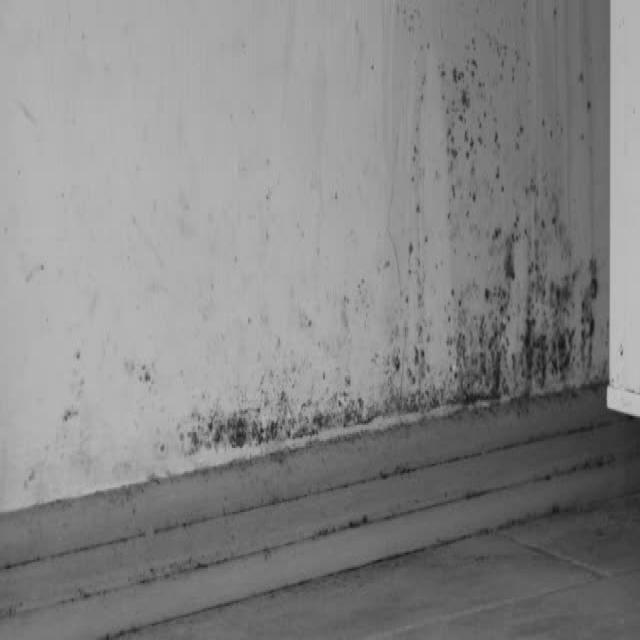stain marks: (164, 0, 613, 457)
